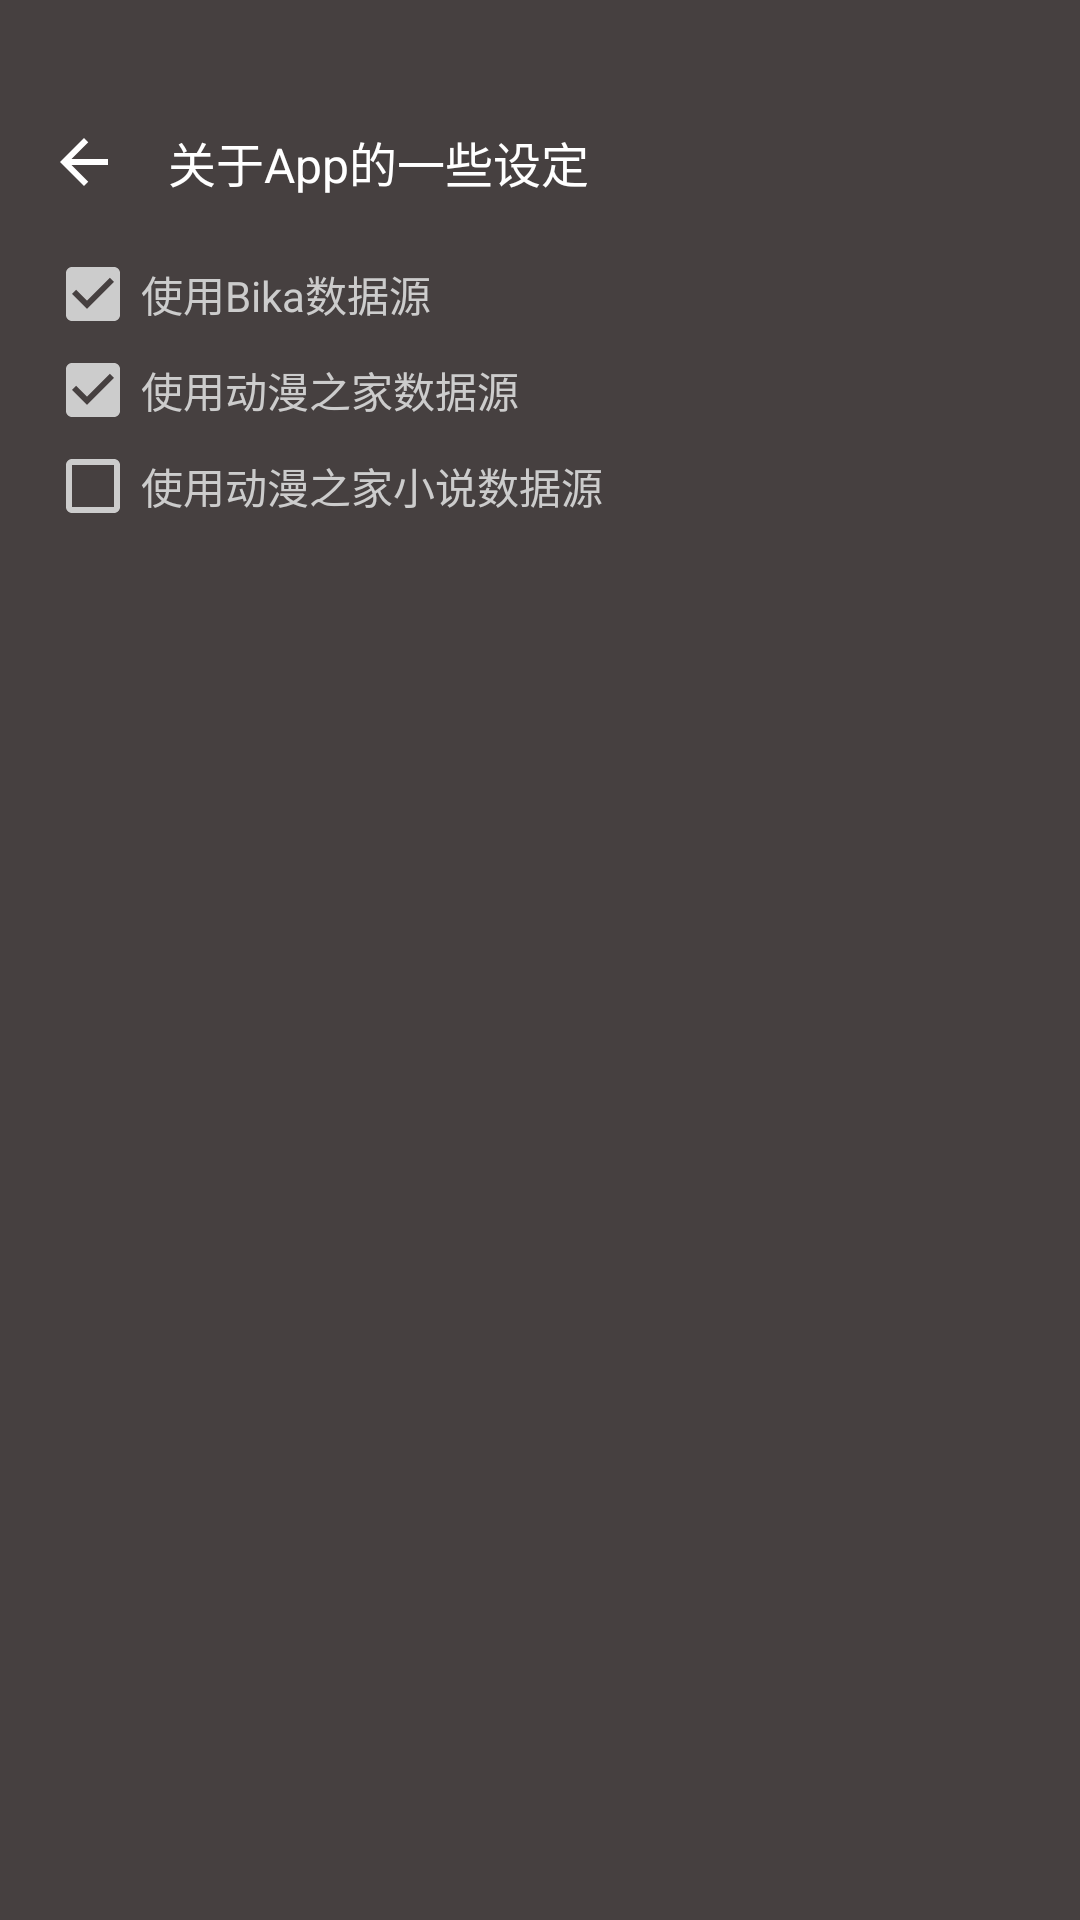

Where icons sit on this 1080x1920 app screen, as (x1, y1, x2, y2):
arrow back: (60, 138, 108, 186)
